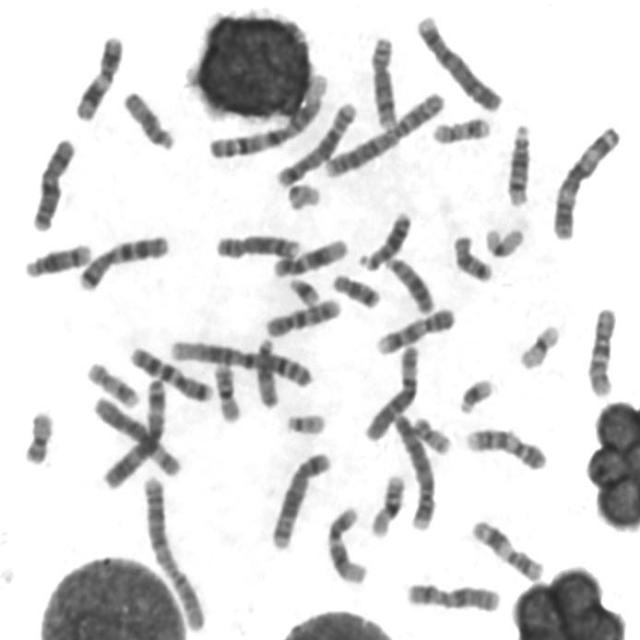A1: (203, 67, 329, 162), (165, 334, 315, 389)
A2: (320, 87, 447, 181), (138, 471, 208, 633)
A3: (548, 120, 623, 242), (98, 374, 168, 492)
B4: (412, 9, 504, 114), (389, 409, 438, 531)
B5: (272, 96, 359, 189), (266, 446, 333, 552)
C10: (261, 293, 344, 340), (583, 301, 620, 400)
C11: (467, 515, 546, 584), (70, 30, 126, 124)
C12: (323, 501, 369, 585), (270, 233, 350, 279)
C6: (89, 392, 182, 480), (360, 340, 422, 443)
C7: (74, 229, 172, 293), (124, 342, 215, 404)
C8: (365, 30, 400, 132), (211, 229, 302, 262)
C9: (372, 302, 458, 357), (461, 423, 549, 473)
D13: (354, 206, 413, 273), (382, 252, 436, 316)
D14: (19, 238, 94, 280), (503, 119, 534, 209)
D15: (119, 86, 177, 152), (252, 332, 281, 410)
E16: (366, 468, 408, 540), (210, 358, 244, 424)
E17: (82, 357, 141, 410), (428, 113, 492, 146)
E18: (449, 230, 494, 284), (328, 269, 382, 310)
F19: (514, 320, 562, 371), (481, 222, 526, 260)
F20: (20, 406, 56, 466), (408, 412, 453, 456)
G21: (455, 373, 496, 416), (284, 273, 322, 308)
G22: (282, 408, 328, 437), (283, 180, 323, 213)
X: (27, 133, 77, 233), (401, 577, 503, 615)
